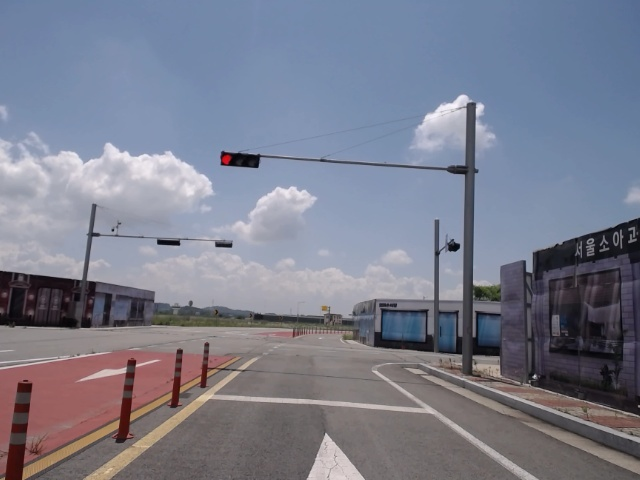red_3: (219, 151, 262, 168)
